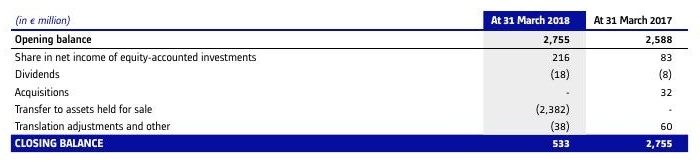table: (0, 0, 700, 165)
